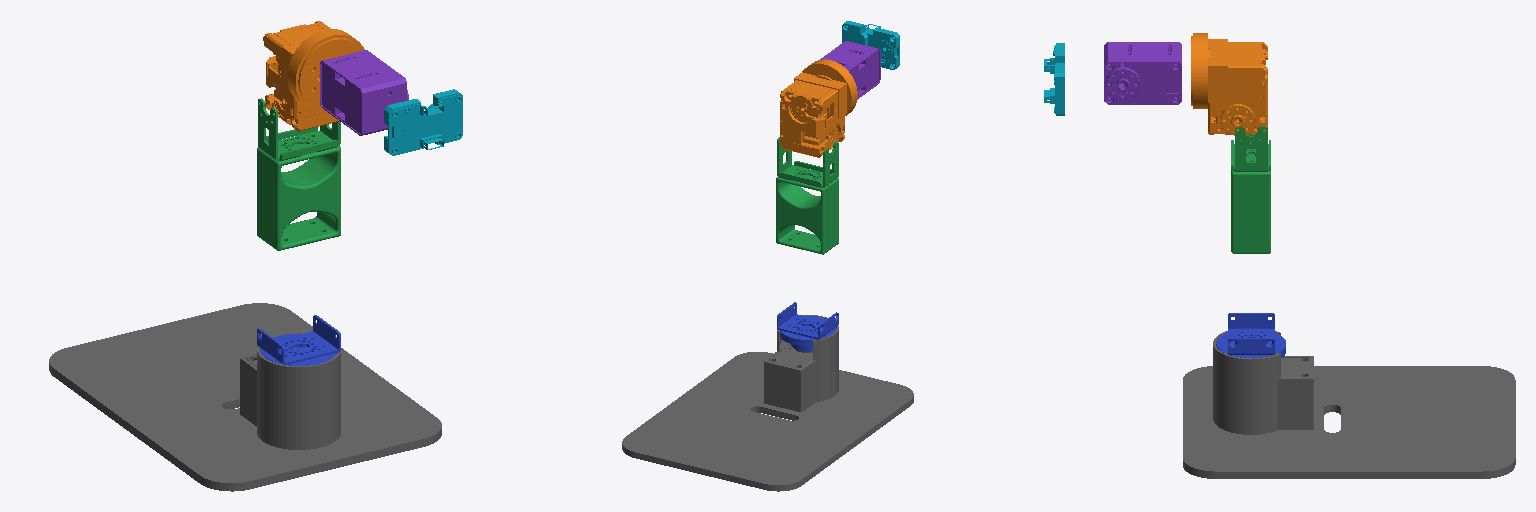
The robot description file, URDF, robot "robot_arm_fusion":
<?xml version="1.0"?>
<robot name="robot_arm_fusion">
  <material name="base_gray"><color rgba="0.45 0.45 0.45 1"/></material>
  <material name="yaw_blue"><color rgba="0.25 0.35 0.85 1"/></material>
  <material name="shoulder_green"><color rgba="0.2 0.65 0.35 1"/></material>
  <material name="upper_orange"><color rgba="0.95 0.55 0.15 1"/></material>
  <material name="forearm_purple"><color rgba="0.55 0.3 0.8 1"/></material>
  <material name="elbow_red"><color rgba="0.85 0.25 0.2 1"/></material>
  <material name="wrist_cyan"><color rgba="0.1 0.7 0.8 1"/></material>

  <link name="base_link">
    <inertial>
      <origin xyz="0 0 0" rpy="0 0 0"/>
      <mass value="0.1"/>
      <inertia ixx="0.0001" ixy="0" ixz="0" iyy="0.0001" iyz="0" izz="0.0001"/>
    </inertial>
    <visual>
      <origin xyz="-0.075 -0.0413 0" rpy="0 -0 0"/>
      <geometry><mesh filename="../cad/exports/fusion_meshes/arm_plate_v2_1.stl" scale="0.001 0.001 0.001"/></geometry>
      <material name="base_gray"/>
    </visual>
    <visual>
      <origin xyz="0.00015 -5e-05 0.022" rpy="-1.57772e-30 2.9525e-15 -3.14159"/>
      <geometry><mesh filename="../cad/exports/fusion_meshes/XM_H-430_idler_1_DUMMY_DC12_1.stl" scale="0.001 0.001 0.001"/></geometry>
      <material name="base_gray"/>
    </visual>
  </link>

  <link name="base_yaw_link">
    <inertial>
      <origin xyz="0 0 0" rpy="0 0 0"/>
      <mass value="0.1"/>
      <inertia ixx="0.0001" ixy="0" ixz="0" iyy="0.0001" iyz="0" izz="0.0001"/>
    </inertial>
    <visual>
      <origin xyz="-4.43239e-34 9.52863e-34 0.055" rpy="-3.14159 -1.21521e-17 -3.14159"/>
      <geometry><mesh filename="../cad/exports/fusion_meshes/arm_thrustA_1.stl" scale="0.001 0.001 0.001"/></geometry>
      <material name="yaw_blue"/>
    </visual>
    <visual>
      <origin xyz="2.56706e-16 1.09555e-16 0.0745" rpy="-3.14159 -2.04493e-15 -3.14159"/>
      <geometry><mesh filename="../cad/exports/fusion_meshes/fr12_s102_k_1.stl" scale="0.001 0.001 0.001"/></geometry>
      <material name="yaw_blue"/>
    </visual>
    <visual>
      <origin xyz="7.66984e-17 1.57737e-16 0.0955" rpy="1.5708 7.13883e-18 1.5708"/>
      <geometry><mesh filename="../cad/exports/fusion_meshes/XM_H-430_idler_2_DUMMY_DC12_1.stl" scale="0.001 0.001 0.001"/></geometry>
      <material name="yaw_blue"/>
    </visual>
  </link>

  <link name="shoulder_pitch_link">
    <inertial>
      <origin xyz="0 0 0" rpy="0 0 0"/>
      <mass value="0.1"/>
      <inertia ixx="0.0001" ixy="0" ixz="0" iyy="0.0001" iyz="0" izz="0.0001"/>
    </inertial>
    <visual>
      <origin xyz="4.36406e-17 1.76033e-16 -5e-05" rpy="1.5708 2.04397e-15 1.17928e-16"/>
      <geometry><mesh filename="../cad/exports/fusion_meshes/fr12_h101_k_1.stl" scale="0.001 0.001 0.001"/></geometry>
      <material name="shoulder_green"/>
    </visual>
    <visual>
      <origin xyz="-0.0205 0.012 0.08195" rpy="0 1.5708 -1.5708"/>
      <geometry><mesh filename="../cad/exports/fusion_meshes/arm_part1_1.stl" scale="0.001 0.001 0.001"/></geometry>
      <material name="shoulder_green"/>
    </visual>
    <visual>
      <origin xyz="-1.79023e-17 -6.00631e-16 0.10995" rpy="-1.5708 1.28606e-16 1.53078e-15"/>
      <geometry><mesh filename="../cad/exports/fusion_meshes/fr12_h101_k_2.stl" scale="0.001 0.001 0.001"/></geometry>
      <material name="shoulder_green"/>
    </visual>
  </link>

  <link name="upper_arm_link">
    <inertial>
      <origin xyz="0 0 0" rpy="0 0 0"/>
      <mass value="0.1"/>
      <inertia ixx="0.0001" ixy="0" ixz="0" iyy="0.0001" iyz="0" izz="0.0001"/>
    </inertial>
    <visual>
      <origin xyz="0.00048 -0.008 0.00625" rpy="1.5708 1.20278e-16 1.65146e-15"/>
      <geometry><mesh filename="../cad/exports/fusion_meshes/2XC-430_1_DC14_A01_REF_1.stl" scale="0.001 0.001 0.001"/></geometry>
      <material name="upper_orange"/>
    </visual>
    <visual>
      <origin xyz="0.016 -0.008 -0.00575" rpy="0 1.5708 -1.5708"/>
      <geometry><mesh filename="../cad/exports/fusion_meshes/2XC-430_1_DC11_A01_HORN_REF_ASM_1_DC11_A01_HORN_REF_1.stl" scale="0.001 0.001 0.001"/></geometry>
      <material name="upper_orange"/>
    </visual>
    <visual>
      <origin xyz="0.00048 -0.02352 0.01825" rpy="0 -1.5708 -3.14159"/>
      <geometry><mesh filename="../cad/exports/fusion_meshes/2XC-430_1_DC11_A01_HORN_REF_ASM_2_DC11_A01_HORN_REF_1.stl" scale="0.001 0.001 0.001"/></geometry>
      <material name="upper_orange"/>
    </visual>
    <visual>
      <origin xyz="0.00058 -0.026 0.01824" rpy="1.5708 1.20278e-16 1.65146e-15"/>
      <geometry><mesh filename="../cad/exports/fusion_meshes/arm_thrustC_1.stl" scale="0.001 0.001 0.001"/></geometry>
      <material name="upper_orange"/>
    </visual>
    <visual>
      <origin xyz="0.00048 -0.03652 0.01825" rpy="-1.5708 -4.91456e-16 4.01944e-15"/>
      <geometry><mesh filename="../cad/exports/fusion_meshes/arm_thrustB_1.stl" scale="0.001 0.001 0.001"/></geometry>
      <material name="upper_orange"/>
    </visual>
    <visual>
      <origin xyz="0.00048 -0.05602 0.01825" rpy="-1.5708 -4.91456e-16 4.23541e-15"/>
      <geometry><mesh filename="../cad/exports/fusion_meshes/fr12_s102_k_2.stl" scale="0.001 0.001 0.001"/></geometry>
      <material name="upper_orange"/>
    </visual>
  </link>

  <link name="forearm_link">
    <inertial>
      <origin xyz="0 0 0" rpy="0 0 0"/>
      <mass value="0.1"/>
      <inertia ixx="0.0001" ixy="0" ixz="0" iyy="0.0001" iyz="0" izz="0.0001"/>
    </inertial>
    <visual>
      <origin xyz="-0.01142 -0.00992 -0.00445" rpy="0 -1.5708 -3.14159"/>
      <geometry><mesh filename="../cad/exports/fusion_meshes/XC-430_idle_1_DC11_B01_CASE_M_DUMMY_1.stl" scale="0.001 0.001 0.001"/></geometry>
      <material name="forearm_purple"/>
    </visual>
    <visual>
      <origin xyz="-0.01142 -0.00992 -0.00445" rpy="0 -1.5708 -3.14159"/>
      <geometry><mesh filename="../cad/exports/fusion_meshes/XC-430_idle_1_DC11_B01_CASE_F_DUMMY_1.stl" scale="0.001 0.001 0.001"/></geometry>
      <material name="forearm_purple"/>
    </visual>
    <visual>
      <origin xyz="-0.01142 -0.00992 -0.00445" rpy="0 -1.5708 -3.14159"/>
      <geometry><mesh filename="../cad/exports/fusion_meshes/XC-430_idle_1_DC11_B01_CASE_B_DUMMY2_1.stl" scale="0.001 0.001 0.001"/></geometry>
      <material name="forearm_purple"/>
    </visual>
    <visual>
      <origin xyz="0.00408 -0.00992 -0.00445" rpy="4.92709e-16 7.77156e-16 -1.5708"/>
      <geometry><mesh filename="../cad/exports/fusion_meshes/XC-430_idle_1_M_DC11_A01_HORN_ASM_1_M_DC11_A01_HORN_1.stl" scale="0.001 0.001 0.001"/></geometry>
      <material name="forearm_purple"/>
    </visual>
    <visual>
      <origin xyz="-0.03192 -0.03792 -0.01645" rpy="1.5708 -3.70721e-16 5.39809e-15"/>
      <geometry><mesh filename="../cad/exports/fusion_meshes/arm_hand_v2_1.stl" scale="0.001 0.001 0.001"/></geometry>
      <material name="forearm_purple"/>
    </visual>
    <visual>
      <origin xyz="-0.01142 -0.00992 -0.00445" rpy="-8.18789e-16 4.93185e-16 -3.14159"/>
      <geometry><mesh filename="../cad/exports/fusion_meshes/fr12_h101_k_3.stl" scale="0.001 0.001 0.001"/></geometry>
      <material name="forearm_purple"/>
    </visual>
  </link>

  <link name="elbow_roll_link">
    <inertial>
      <origin xyz="0 0 0" rpy="0 0 0"/>
      <mass value="0.1"/>
      <inertia ixx="0.0001" ixy="0" ixz="0" iyy="0.0001" iyz="0" izz="0.0001"/>
    </inertial>
  </link>

  <link name="wrist_pitch_link">
    <inertial>
      <origin xyz="0 0 0" rpy="0 0 0"/>
      <mass value="0.1"/>
      <inertia ixx="0.0001" ixy="0" ixz="0" iyy="0.0001" iyz="0" izz="0.0001"/>
    </inertial>
    <visual>
      <origin xyz="-0.00732 -0.00202 -0.00855" rpy="0 -1.5708 1.5708"/>
      <geometry><mesh filename="../cad/exports/fusion_meshes/XC-430_idle_2_DC11_B01_CASE_M_DUMMY_1.stl" scale="0.001 0.001 0.001"/></geometry>
      <material name="wrist_cyan"/>
    </visual>
    <visual>
      <origin xyz="-0.00732 -0.00202 -0.00855" rpy="0 -1.5708 1.5708"/>
      <geometry><mesh filename="../cad/exports/fusion_meshes/XC-430_idle_2_DC11_B01_CASE_F_DUMMY_1.stl" scale="0.001 0.001 0.001"/></geometry>
      <material name="wrist_cyan"/>
    </visual>
    <visual>
      <origin xyz="-0.00732 -0.00202 -0.00855" rpy="0 -1.5708 1.5708"/>
      <geometry><mesh filename="../cad/exports/fusion_meshes/XC-430_idle_2_DC11_B01_CASE_B_DUMMY2_1.stl" scale="0.001 0.001 0.001"/></geometry>
      <material name="wrist_cyan"/>
    </visual>
    <visual>
      <origin xyz="-0.00732 -0.01752 -0.00855" rpy="-3.33067e-16 -1.44018e-15 -3.14159"/>
      <geometry><mesh filename="../cad/exports/fusion_meshes/XC-430_idle_2_M_DC11_A01_HORN_ASM_1_M_DC11_A01_HORN_1.stl" scale="0.001 0.001 0.001"/></geometry>
      <material name="wrist_cyan"/>
    </visual>
  </link>

  <joint name="base_yaw_joint" type="revolute">
    <parent link="base_link"/>
    <child link="base_yaw_link"/>
    <origin xyz="0 0 0" rpy="0 0 0"/>
    <axis xyz="0 0 1"/>
    <limit lower="-3.14159" upper="3.14159" effort="2.0" velocity="1.0"/>
  </joint>

  <joint name="shoulder_pitch_joint" type="revolute">
    <parent link="base_yaw_link"/>
    <child link="shoulder_pitch_link"/>
    <origin xyz="0 0 0.0955" rpy="0 0 0"/>
    <axis xyz="1 0 0"/>
    <limit lower="-1.5708" upper="1.5708" effort="2.0" velocity="1.0"/>
  </joint>

  <joint name="elbow_pitch_joint" type="revolute">
    <parent link="shoulder_pitch_link"/>
    <child link="upper_arm_link"/>
    <origin xyz="0 0 0.12195" rpy="0 0 0"/>
    <axis xyz="1 0 0"/>
    <limit lower="-1.5708" upper="1.5708" effort="2.0" velocity="1.0"/>
  </joint>

  <joint name="upper_arm_roll_joint" type="revolute">
    <parent link="upper_arm_link"/>
    <child link="forearm_link"/>
    <origin xyz="0.0119 -0.0671 0.0227" rpy="0 0 0"/>
    <axis xyz="0 0 -1"/>
    <limit lower="-1.5708" upper="1.5708" effort="2.0" velocity="1.0"/>
  </joint>

  <joint name="elbow_roll_joint" type="revolute">
    <parent link="forearm_link"/>
    <child link="elbow_roll_link"/>
    <origin xyz="-0.0078 -0.0004 0" rpy="0 0 0"/>
    <axis xyz="-1 0 0"/>
    <limit lower="-1.5708" upper="1.5708" effort="2.0" velocity="1.0"/>
  </joint>

  <joint name="wrist_pitch_joint" type="revolute">
    <parent link="elbow_roll_link"/>
    <child link="wrist_pitch_link"/>
    <origin xyz="0.0037 -0.0595 0.0041" rpy="0 0 0"/>
    <axis xyz="0 1 0"/>
    <limit lower="-1.5708" upper="1.5708" effort="2.0" velocity="1.0"/>
  </joint>

</robot>

--- What the picture shows (computed from the rendered views, not written in the file) ---
Views: 3 orthographic renders of the robot side by side, from view 1: azimuth 30°, elevation 25°; view 2: azimuth 150°, elevation 25°; view 3: azimuth 270°, elevation 25°.
Robot: robot_arm_fusion — 7 links, 6 joints (6 revolute); root link base_link; default pose: every joint at zero.
Visible links, largest first — view 1: base_link, shoulder_pitch_link, upper_arm_link, forearm_link, wrist_pitch_link, base_yaw_link; view 2: base_link, upper_arm_link, shoulder_pitch_link, base_yaw_link, forearm_link, wrist_pitch_link; view 3: base_link, upper_arm_link, forearm_link, shoulder_pitch_link, base_yaw_link, wrist_pitch_link.
Link boxes in pixels (x1,y1,x2,y2): base_link: (49, 303, 441, 491); shoulder_pitch_link: (257, 98, 340, 250); upper_arm_link: (263, 21, 364, 131); forearm_link: (320, 50, 408, 135); wrist_pitch_link: (384, 89, 462, 155); base_yaw_link: (257, 315, 340, 365); base_link: (622, 315, 913, 491); upper_arm_link: (780, 59, 857, 157); shoulder_pitch_link: (776, 137, 838, 254); base_yaw_link: (777, 302, 838, 351); forearm_link: (820, 41, 880, 99); wrist_pitch_link: (842, 21, 899, 69); base_link: (1183, 331, 1515, 478); upper_arm_link: (1191, 33, 1267, 135); forearm_link: (1104, 42, 1181, 104); shoulder_pitch_link: (1231, 126, 1270, 253); base_yaw_link: (1216, 313, 1285, 357); wrist_pitch_link: (1044, 43, 1064, 115).
Size in the robot's own frame: 0.15 by 0.283 by 0.2587 metres.
Meshes: 24 distinct files referenced, 14 mesh visuals loaded (14 binary STL); not drawn: 10 (reference not matched to a file when rendering).
